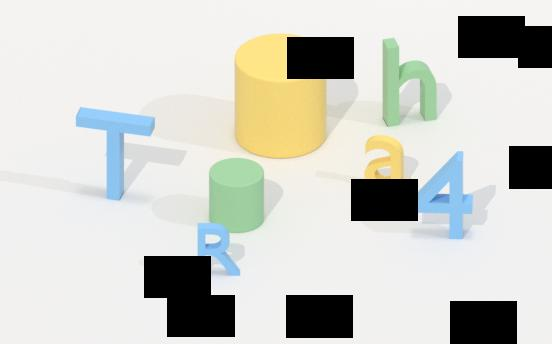4: (409, 150, 481, 240)
R-hoa: (190, 220, 249, 282)
a: (362, 132, 411, 195)
h: (377, 35, 447, 130)
t-hoa: (66, 103, 170, 201)
tru: (230, 35, 331, 161), (204, 155, 269, 235)
